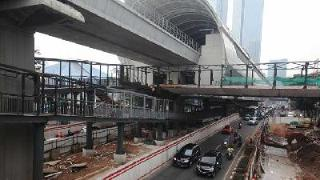mobil: (198, 148, 224, 180), (168, 143, 202, 167)
motor: (224, 143, 236, 161)
